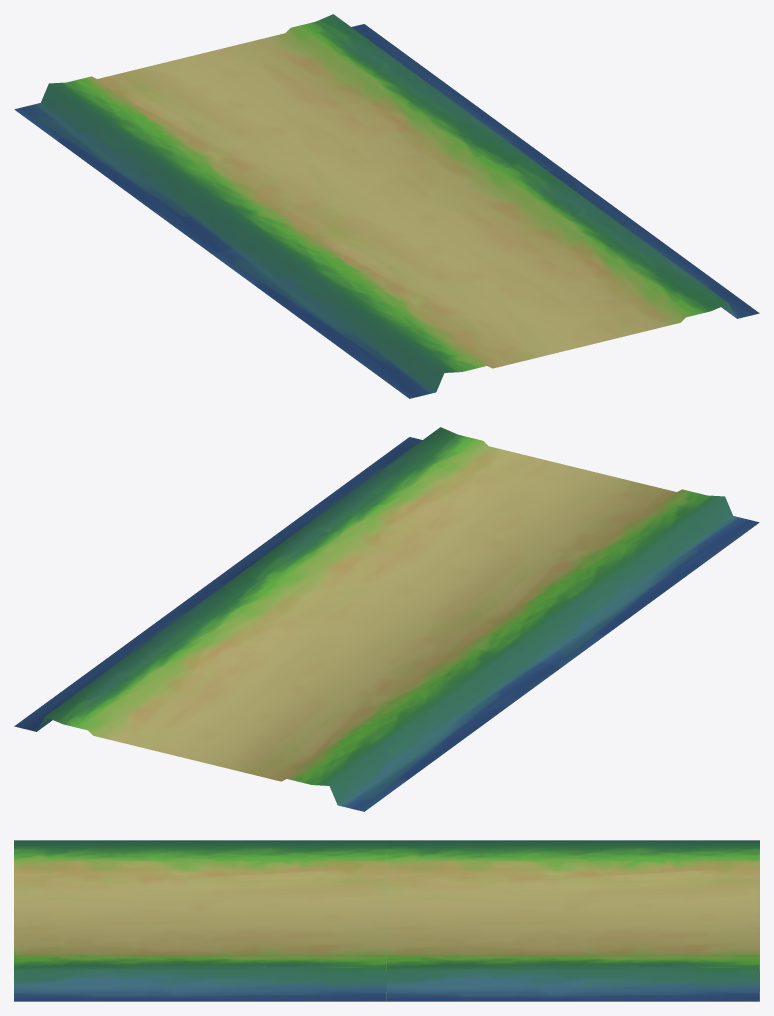
File: groundFloor.fbx
3 views of the same model, one above another, from view 1: azimuth 30°, elevation 25°; view 2: azimuth 150°, elevation 25°; view 3: azimuth 270°, elevation 25° (orthographic). The views are drawn at different scales.
Parts seen in each view (by area): view 1: Plane; view 2: Plane; view 3: Plane.
Part boxes in pixels (box(x1,y1,x2,y2)): Plane: box(14, 14, 759, 398); Plane: box(14, 427, 759, 811); Plane: box(14, 840, 759, 1001).
Size of the model in its own units: 391 by 18.54 by 765.
Materials: 1 (1 with a texture image).
